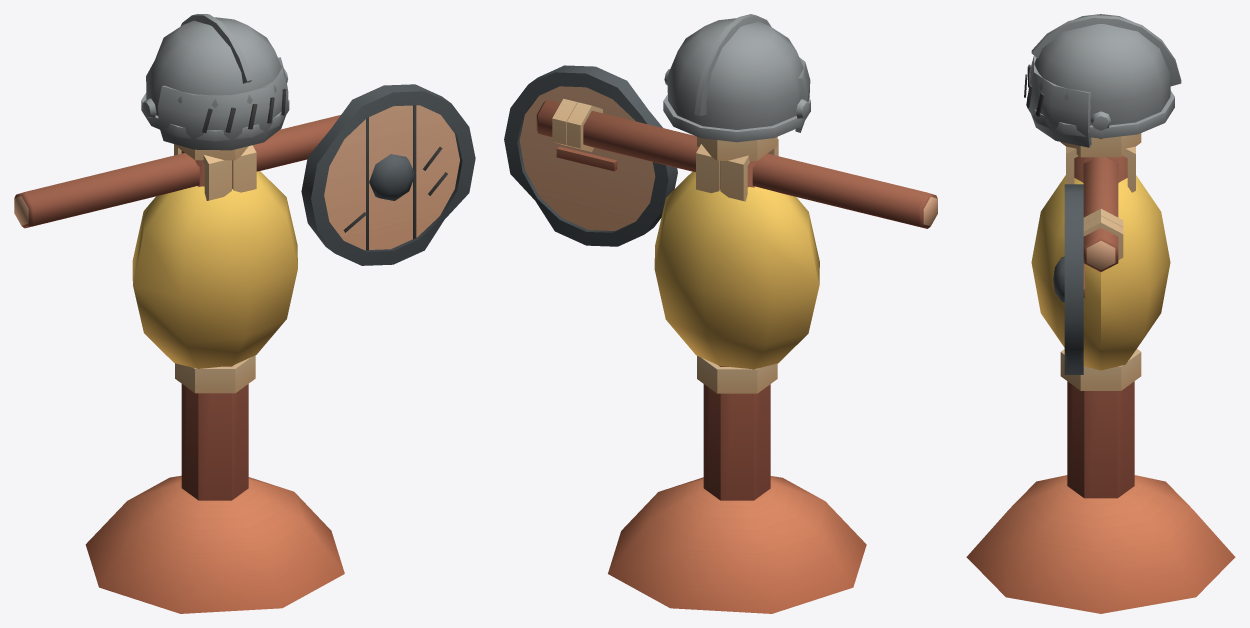
Rendered from training_dummy.fbx.
3 renders of one model, left to right at view 1: azimuth 30°, elevation 25°; view 2: azimuth 150°, elevation 25°; view 3: azimuth 270°, elevation 25°, orthographic.
Visible parts, largest first — view 1: training_dummy; view 2: training_dummy; view 3: training_dummy.
Part boxes in pixels (left/top/right/bottom): training_dummy: left=14, top=14, right=475, bottom=613; training_dummy: left=504, top=14, right=937, bottom=613; training_dummy: left=966, top=14, right=1235, bottom=613.
Bounding box in the file's own units: 0.45 × 0.5419 × 0.24.
1 material, 1 textured.
